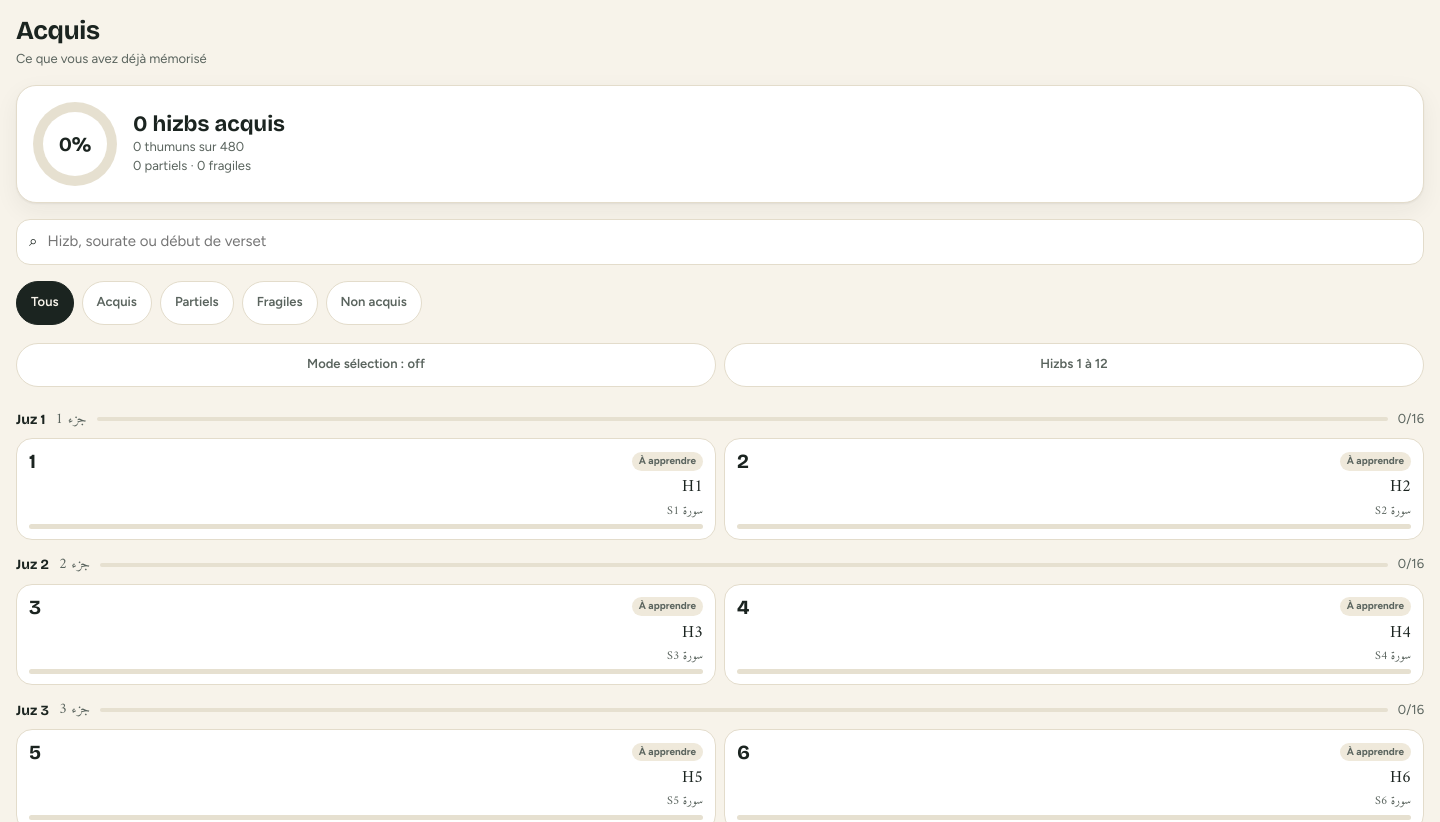
Test case: Acquis : recherche et filtres › aucun résultat : message vide
In the search field: (728, 242) [45,220,1411,264], type "zzz"
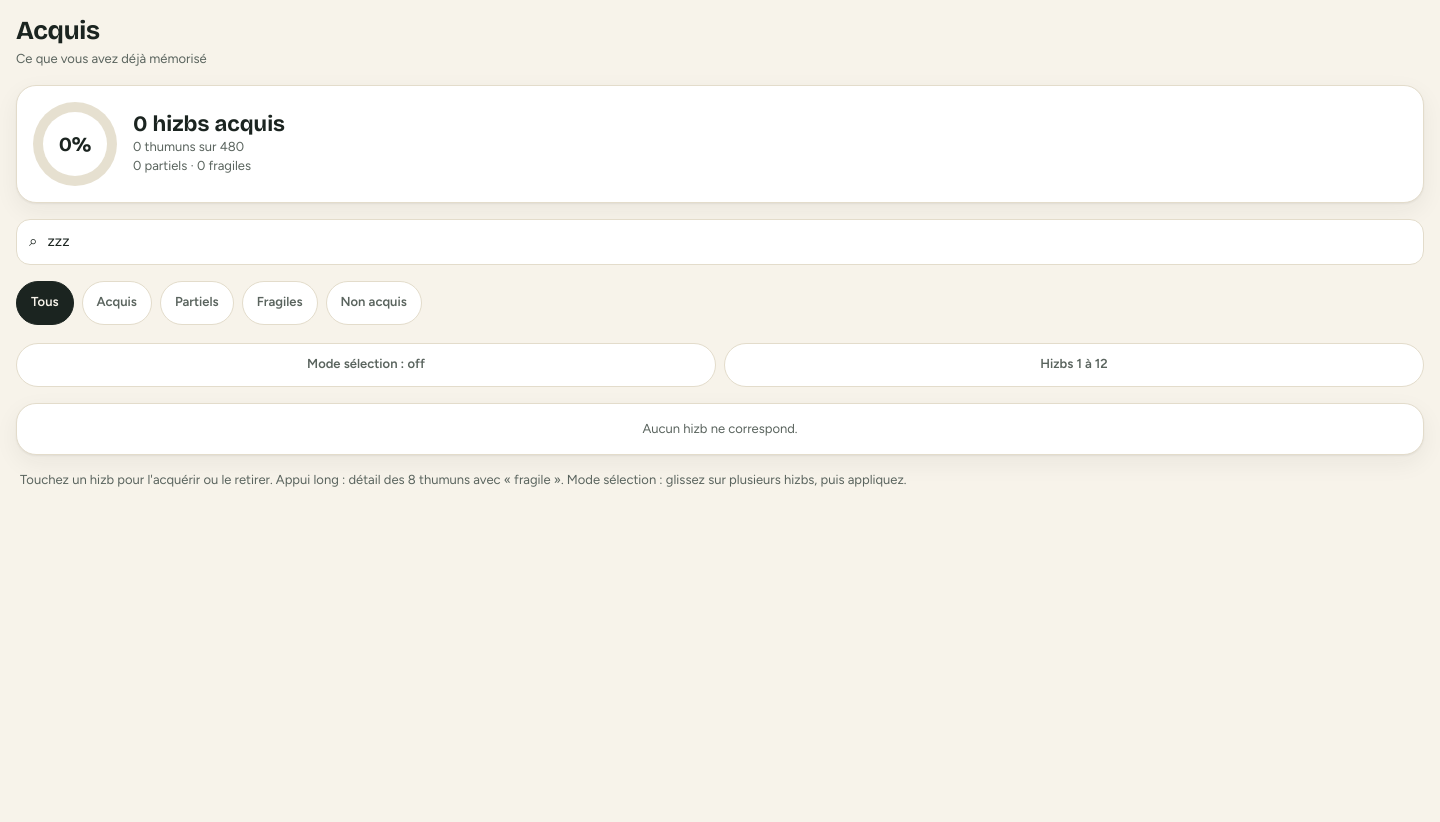
Check: the text "Aucun hizb ne correspond." is shown, box [16,402,1424,455]
